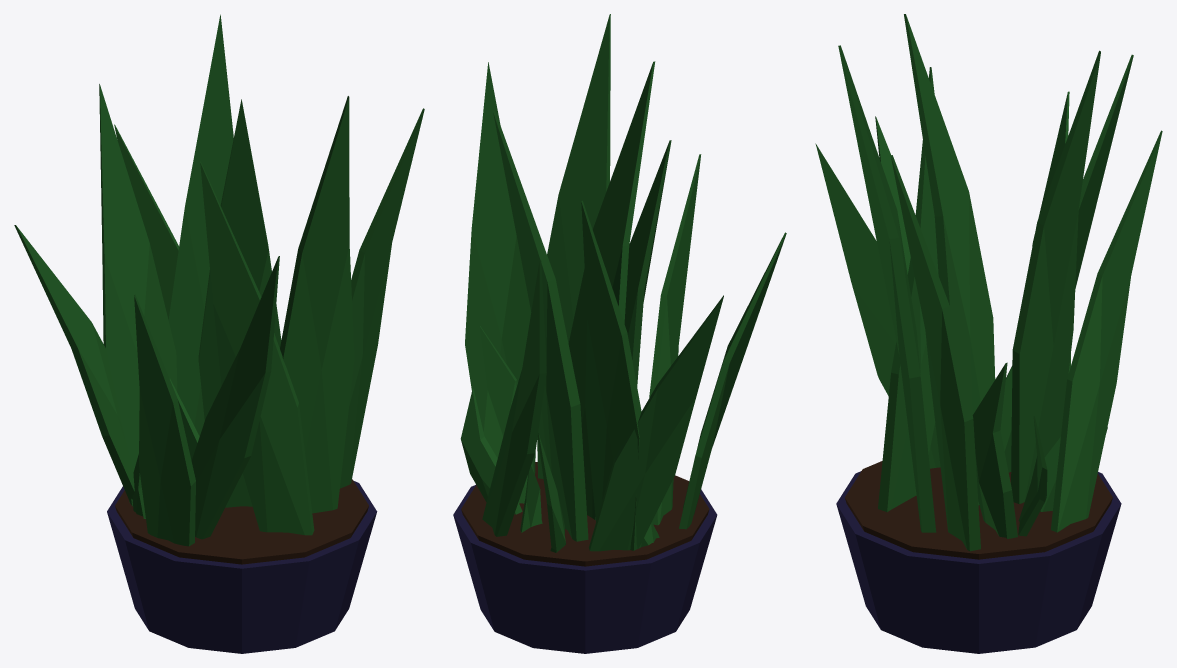
File: plant5.fbx
3 renders of one model, left to right at view 1: azimuth 30°, elevation 25°; view 2: azimuth 150°, elevation 25°; view 3: azimuth 270°, elevation 25°, orthographic. The views are drawn at different scales.
Parts seen in each view (by area): view 1: Cylinder.001; view 2: Cylinder.001; view 3: Cylinder.001.
Boxes of the visible parts, box(x1,y1,x2,y2) form: Cylinder.001: box(14, 14, 424, 653); Cylinder.001: box(453, 14, 786, 653); Cylinder.001: box(815, 14, 1162, 653).
Size of the model in its own units: 105 by 170 by 92.13.
